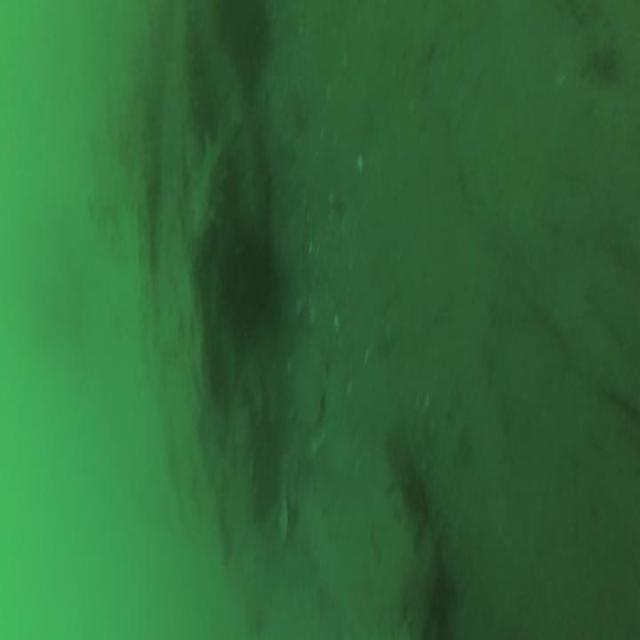echinus: (205, 213, 287, 357)
